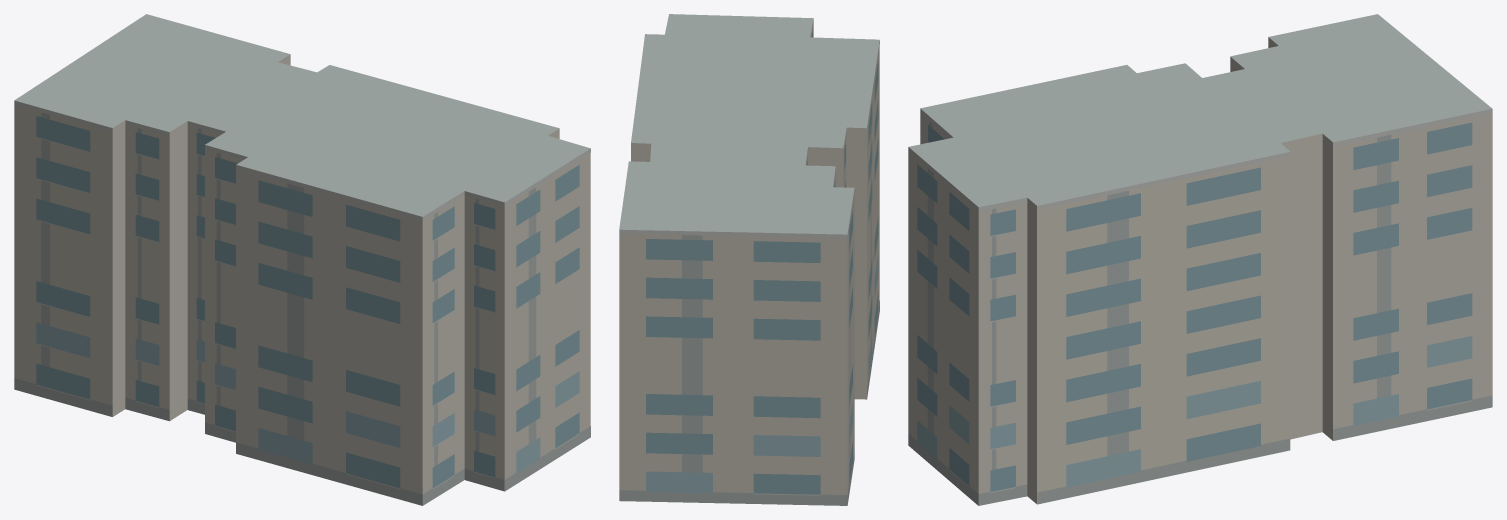
File: survey-upis-32816348.glb
3 renders of one model, left to right at view 1: azimuth 30°, elevation 25°; view 2: azimuth 150°, elevation 25°; view 3: azimuth 270°, elevation 25°, orthographic. The views are drawn at different scales.
Parts seen in each view (by area): view 1: survey-upis-32816348.tmp; view 2: survey-upis-32816348.tmp; view 3: survey-upis-32816348.tmp.
Part boxes in pixels (x1=…): survey-upis-32816348.tmp: x1=14, y1=14, x2=590, y2=505; survey-upis-32816348.tmp: x1=619, y1=14, x2=879, y2=505; survey-upis-32816348.tmp: x1=908, y1=14, x2=1492, y2=505.
Bounding box in the file's own units: 22.49 × 16.2 × 28.73.
